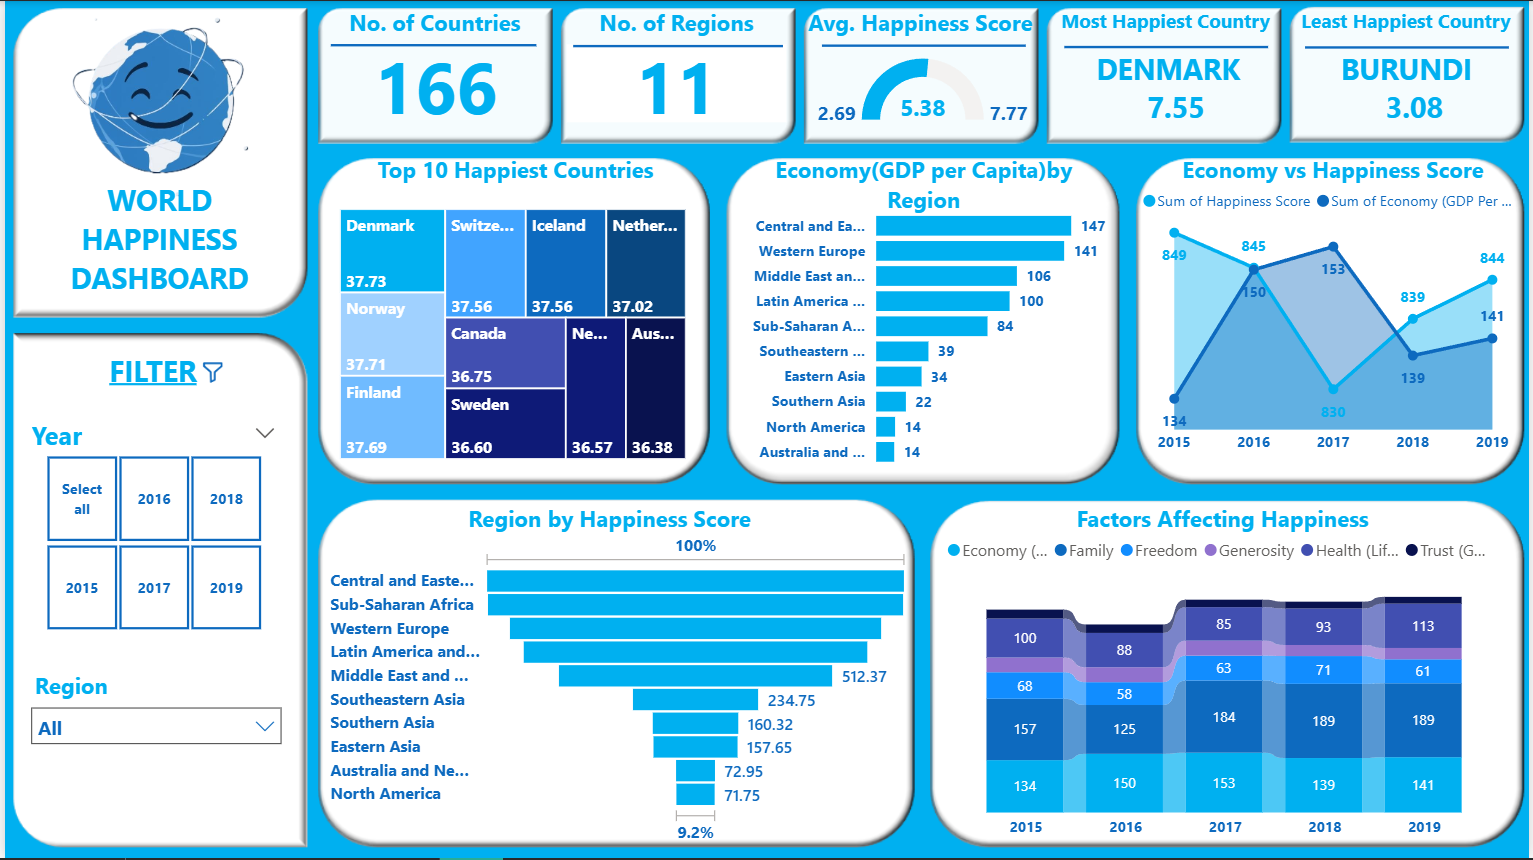

Layout of this report page (visuals, bound fields, positions):
{"tool":"powerbi","page":{"name":"World Happiness Dashboard","canvas":[1280,720],"ordinal":0},"visuals":[{"type":"image","box":[9.9,0,240.8,169],"z":0},{"type":"textbox","box":[9.9,145,240.8,109.8],"z":1000},{"type":"textbox","box":[9.9,288.7,229.5,42.2],"z":2000},{"type":"slicer","fields":{"Values":["World Happiness Data.Year"]},"box":[10.1,345.6,229.8,189.6],"z":3000},{"type":"slicer","fields":{"Values":["World Happiness Data.Region"]},"box":[11.7,556.9,229.8,87.2],"z":4000},{"type":"textbox","box":[276.8,0,169.4,36.9],"z":5000},{"type":"textbox","box":[471.4,0,184.5,36.9],"z":6000},{"type":"textbox","box":[655.9,0,224.8,36.9],"z":7000},{"type":"textbox","box":[293.6,124.1,270.1,45.3],"z":8000},{"type":"treemap","fields":{"Group":["World Happiness Data.Country"],"Values":["Sum(World Happiness Data.Happiness Score)"]},"box":[276.8,169.4,300.3,219.8],"z":9000},{"type":"textbox","box":[610.6,124.1,322.1,265],"z":10000},{"type":"barChart","fields":{"Category":["World Happiness Data.Region"],"Y":["Sum(World Happiness Data.Economy (GDP Per Capita))"]},"box":[610.6,159.4,372.4,241.6],"z":11000},{"type":"textbox","box":[276.8,416,463,38.6],"z":12000},{"type":"funnel","fields":{"Category":["World Happiness Data.Region"],"Y":["Sum(World Happiness Data.Happiness Score)"]},"box":[268.1,440.6,497.2,272.2],"z":13000},{"type":"card","fields":{"Values":["World Happiness Data.No.of Countries"]},"box":[296.9,36.9,130.8,65.4],"z":14000},{"type":"card","fields":{"Values":["World Happiness Data.No.of Regions"]},"box":[471.4,36.9,184.5,65.4],"z":15000},{"type":"shape","box":[273.4,10.1,172.8,55.4],"z":16000},{"type":"shape","box":[476.4,26.8,176.1,21.8],"z":17000},{"type":"shape","box":[686.1,21.8,171.1,31.9],"z":18000},{"type":"textbox","box":[869.1,0,204.8,39.1],"z":19000},{"type":"shape","box":[886.6,20.2,171.1,36.4],"z":20000},{"type":"textbox","box":[1083.7,0,196.3,36.9],"z":21000},{"type":"shape","box":[1092.1,18.5,171.1,40.3],"z":22000},{"type":"textbox","box":[983,124.1,280.1,276.8],"z":23000},{"type":"image","box":[115.7,265,117.4,92.3],"z":24000},{"type":"lineChart","fields":{"Category":["World Happiness Data.Year"],"Y":["Sum(World Happiness Data.Happiness Score)"],"Y2":["Sum(World Happiness Data.Economy (GDP Per Capita))"]},"box":[949.5,147.6,330.5,241.6],"z":25000},{"type":"card","fields":{"Values":["World Happiness Data.Most Happiest Country & Score"]},"box":[870.5,21.6,200.8,97],"z":26000},{"type":"card","fields":{"Values":["World Happiness Data.Least Country & Score"]},"box":[1090.4,28.5,186.2,83.9],"z":27000},{"type":"gauge","fields":{"Y":["World Happiness Data.Average Happiness Score"],"MaxValue":["World Happiness Data.MaxScore"],"MinValue":["World Happiness Data.MinScore"]},"box":[672.7,33.6,196.3,85.6],"z":28000},{"type":"textbox","box":[894.1,416,288.5,35.2],"z":29000},{"type":"columnChart","fields":{"Category":["World Happiness Data (2).Year"],"Series":["World Happiness Data (2).Factors"],"Y":["Sum(World Happiness Data (2).Contribution)"]},"box":[785.1,441.2,478.1,271.8],"z":30000}]}

Visuals, with their boxes in screenshot pixels (x1, y1, x2, y2), scaled from the page's 1280x720 canvas onto the 1533x860 screenshot:
image: bbox=[12, 0, 300, 202]
textbox: bbox=[12, 173, 300, 304]
textbox: bbox=[12, 345, 287, 395]
slicer - World Happiness Data.Year: bbox=[12, 413, 287, 639]
slicer - World Happiness Data.Region: bbox=[14, 665, 289, 769]
textbox: bbox=[332, 0, 534, 44]
textbox: bbox=[565, 0, 786, 44]
textbox: bbox=[786, 0, 1055, 44]
textbox: bbox=[352, 148, 675, 202]
treemap - World Happiness Data.Country x Sum(World Happiness Data.Happiness Score): bbox=[332, 202, 691, 465]
textbox: bbox=[731, 148, 1117, 465]
barChart - World Happiness Data.Region x Sum(World Happiness Data.Economy (GDP Per Capita)): bbox=[731, 190, 1177, 479]
textbox: bbox=[332, 497, 886, 543]
funnel - World Happiness Data.Region x Sum(World Happiness Data.Happiness Score): bbox=[321, 526, 917, 851]
card - World Happiness Data.No.of Countries: bbox=[356, 44, 512, 122]
card - World Happiness Data.No.of Regions: bbox=[565, 44, 786, 122]
shape: bbox=[327, 12, 534, 78]
shape: bbox=[571, 32, 781, 58]
shape: bbox=[822, 26, 1027, 64]
textbox: bbox=[1041, 0, 1286, 47]
shape: bbox=[1062, 24, 1267, 68]
textbox: bbox=[1298, 0, 1532, 44]
shape: bbox=[1308, 22, 1513, 70]
textbox: bbox=[1177, 148, 1513, 479]
image: bbox=[139, 317, 279, 427]
lineChart - World Happiness Data.Year x Sum(World Happiness Data.Happiness Score): bbox=[1137, 176, 1532, 465]
card - World Happiness Data.Most Happiest Country & Score: bbox=[1043, 26, 1283, 142]
card - World Happiness Data.Least Country & Score: bbox=[1306, 34, 1529, 134]
gauge - World Happiness Data.Average Happiness Score x World Happiness Data.MaxScore: bbox=[806, 40, 1041, 142]
textbox: bbox=[1071, 497, 1416, 539]
columnChart - World Happiness Data (2).Year x World Happiness Data (2).Factors: bbox=[940, 527, 1513, 852]
